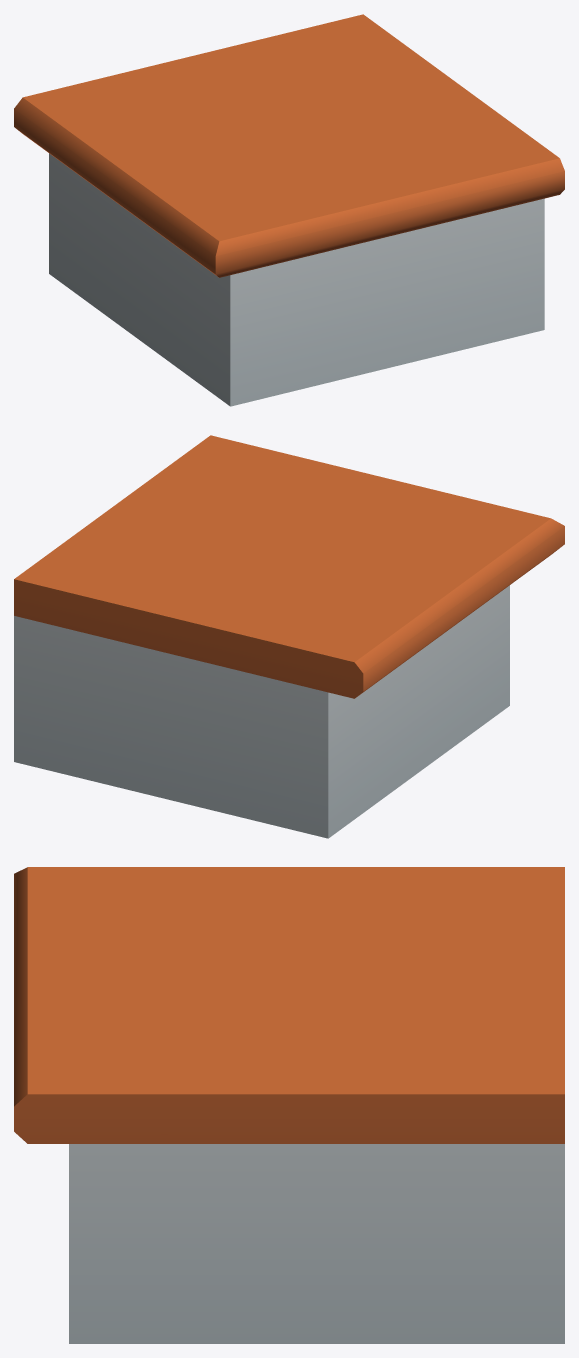
Rendered from kay-kitchencounter_outercorner.glb.
The picture shows the model from 3 angles, top to bottom: view 1: azimuth 30°, elevation 25°; view 2: azimuth 150°, elevation 25°; view 3: azimuth 270°, elevation 25°; orthographic projection. The views are drawn at different scales.
Parts seen in each view (by area): view 1: kitchencounter_outercorner; view 2: kitchencounter_outercorner; view 3: kitchencounter_outercorner.
Part boxes in pixels (box(x1,y1,x2,y2)): kitchencounter_outercorner: box(14, 14, 564, 406); kitchencounter_outercorner: box(14, 435, 564, 838); kitchencounter_outercorner: box(14, 867, 564, 1343).
Bounding box in the file's own units: 1.2 × 0.6 × 1.2.
Materials: 1 (1 with a texture image).
